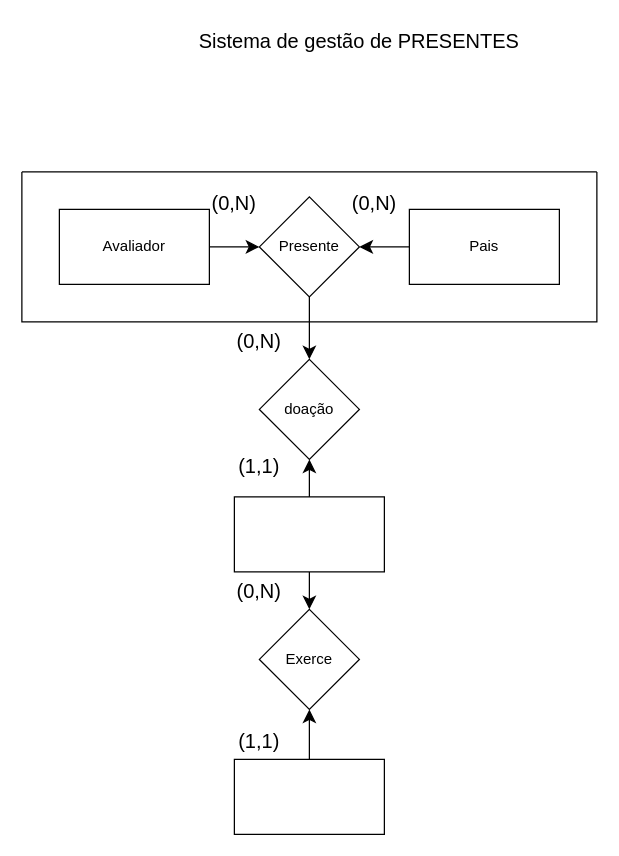
This 619x856 diagram has some shape labels left out. Here are the shapes that lost their labels. From the top down, the centre of each, then its label:
At (308,534): "Servidor Público".
At (308,796): "Função".
